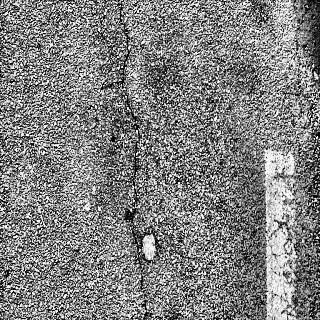crack: (114, 1, 151, 318)
